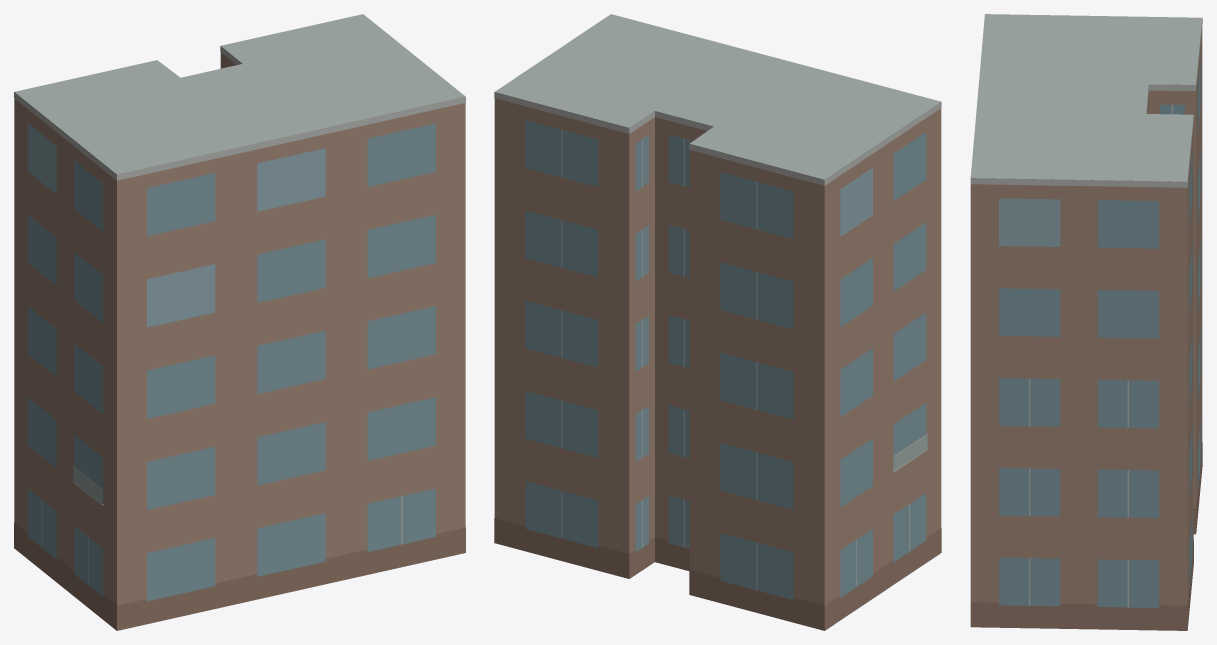
The model's file is survey-upis-32882762.glb.
3 views of the same model, side by side, from view 1: azimuth 30°, elevation 25°; view 2: azimuth 150°, elevation 25°; view 3: azimuth 270°, elevation 25° (orthographic).
Parts seen in each view (by area): view 1: survey-upis-32882762.tmp; view 2: survey-upis-32882762.tmp; view 3: survey-upis-32882762.tmp.
Boxes of the visible parts, x1,y1,x2,y2 form: survey-upis-32882762.tmp: (14, 14, 465, 630); survey-upis-32882762.tmp: (494, 14, 941, 630); survey-upis-32882762.tmp: (970, 14, 1202, 630).
Bounding box in the file's own units: 14.26 × 17.8 × 8.33.
